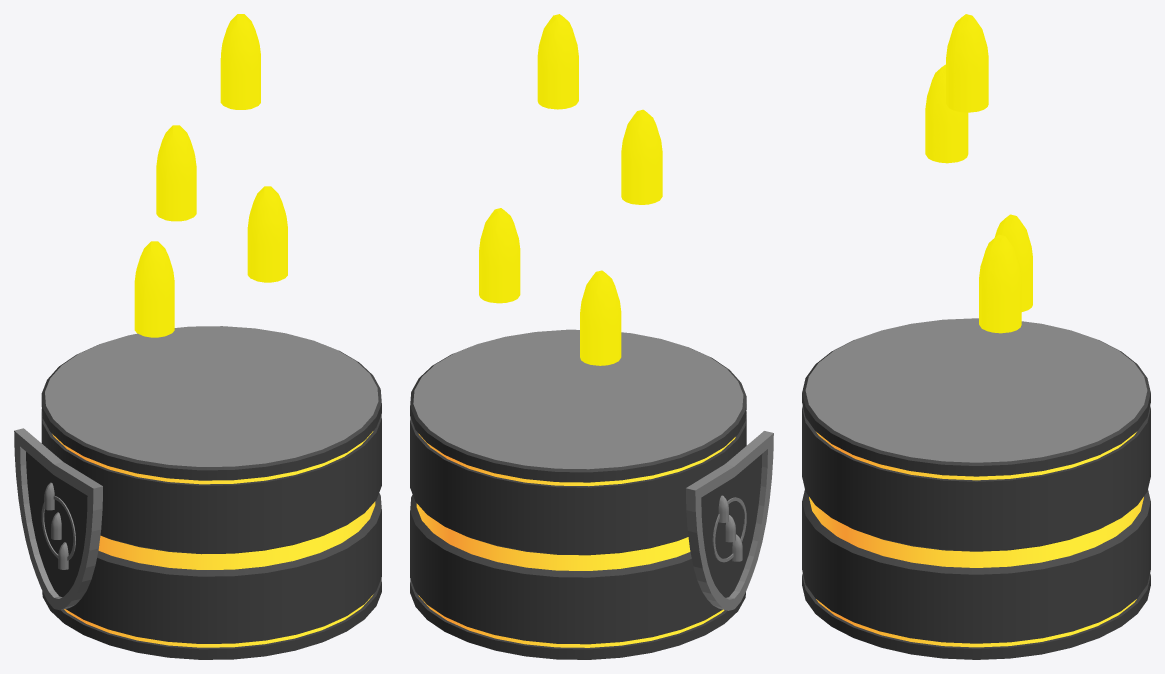
File: powerUp-bullet.fbx
The picture shows the model from 3 angles, left to right: view 1: azimuth 30°, elevation 25°; view 2: azimuth 150°, elevation 25°; view 3: azimuth 270°, elevation 25°; orthographic projection. The views are drawn at different scales.
Visible parts, largest first — view 1: Pedana, PowerUp-bullet; view 2: Pedana, PowerUp-bullet; view 3: Pedana, PowerUp-bullet.
Part boxes in pixels (x1=…): Pedana: x1=14, y1=326, x2=381, y2=659; PowerUp-bullet: x1=134, y1=14, x2=287, y2=337; Pedana: x1=410, y1=329, x2=773, y2=659; PowerUp-bullet: x1=479, y1=14, x2=662, y2=365; Pedana: x1=802, y1=318, x2=1150, y2=659; PowerUp-bullet: x1=925, y1=14, x2=1032, y2=333.
Bounding box in the file's own units: 127 × 226 × 122.
